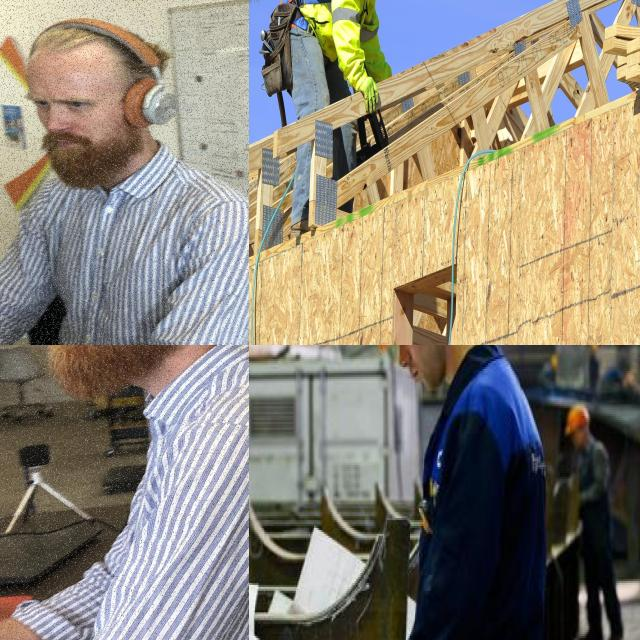Ear-protection: (11, 6, 181, 182), (16, 345, 249, 414)
face_nomask: (400, 346, 446, 391)
hand_glove: (349, 68, 386, 124)
head_helmet: (564, 404, 590, 436)
person: (257, 0, 439, 189)
vest: (281, 0, 389, 102)
